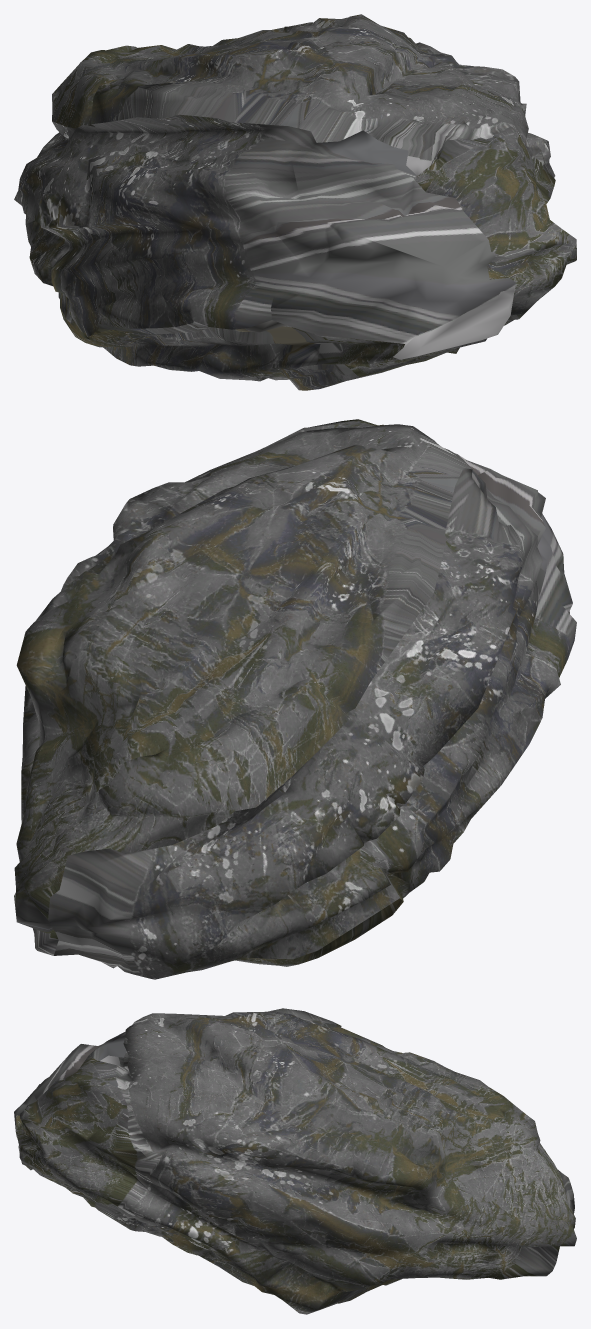
File: SM_RockCastle01.FBX
The picture shows the model from 3 angles, top to bottom: view 1: azimuth 30°, elevation 25°; view 2: azimuth 150°, elevation 25°; view 3: azimuth 270°, elevation 25°; orthographic projection. The views are drawn at different scales.
Visible parts, largest first — view 1: SM_RockCastle01; view 2: SM_RockCastle01; view 3: SM_RockCastle01.
Part boxes in pixels (bbox=[...]): SM_RockCastle01: bbox=[14, 14, 576, 390]; SM_RockCastle01: bbox=[14, 419, 576, 979]; SM_RockCastle01: bbox=[14, 1008, 576, 1314].
Bounding box in the file's own units: 394 × 681 × 355.
